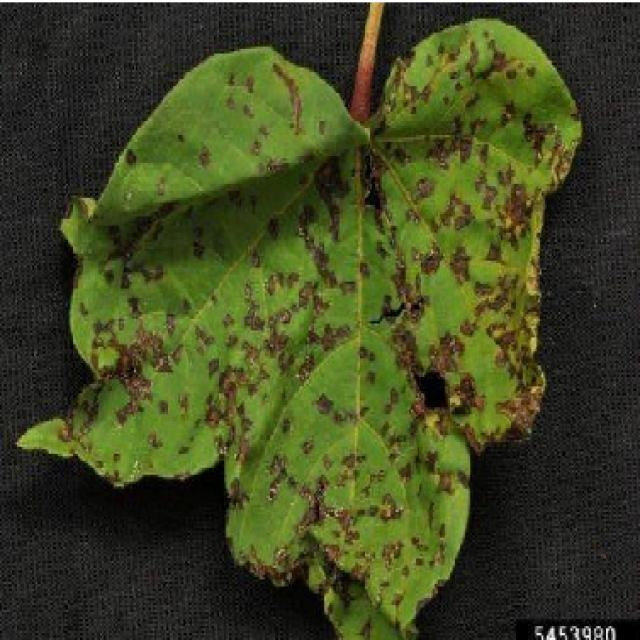Bacterial Blight: (202, 147, 534, 473)
